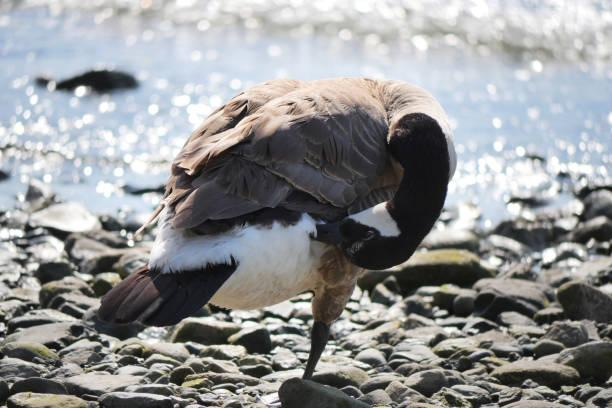Canadian-Goose: (100, 69, 460, 389)
